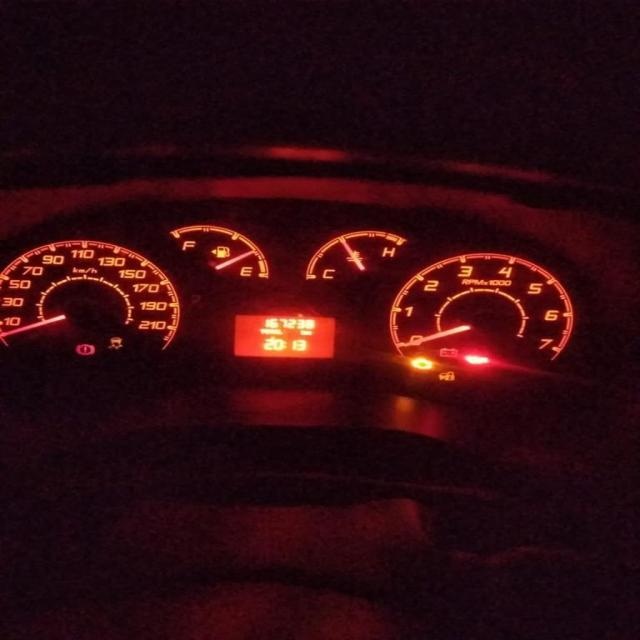odometer: (232, 313, 338, 358)
